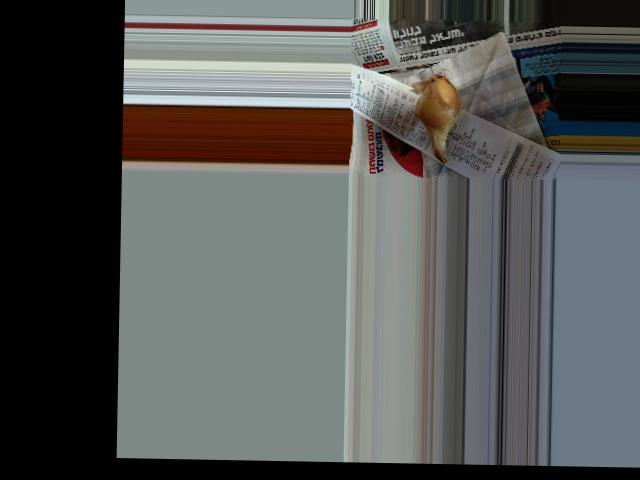onion: (418, 78, 460, 141)
